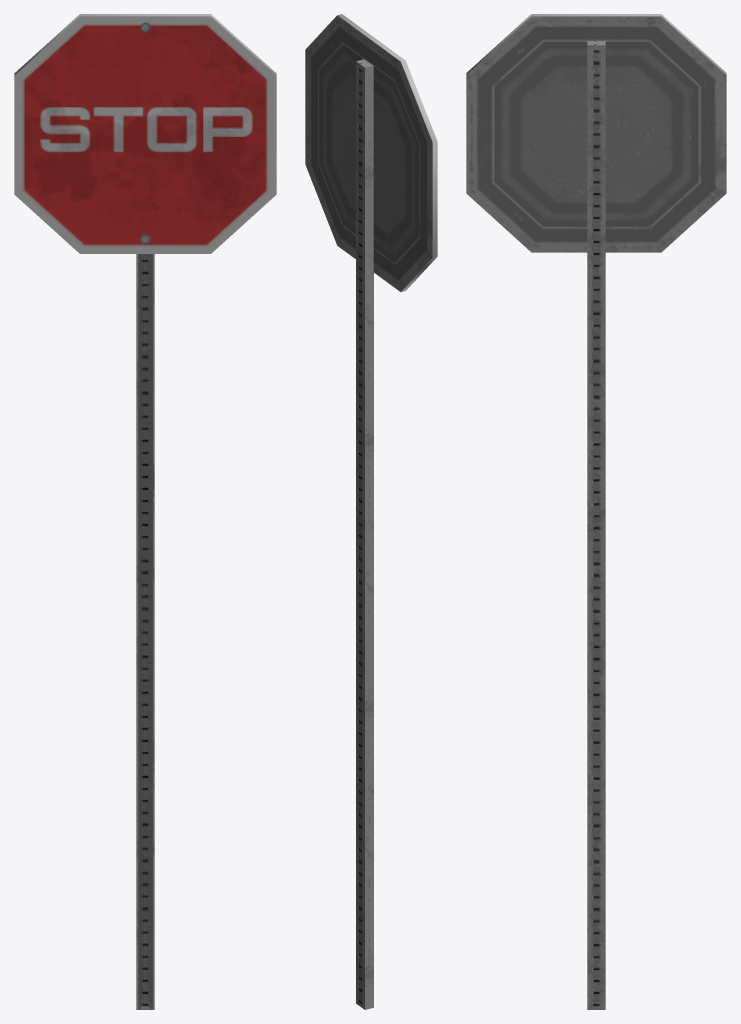
The model's file is MB_Sign_Stop.fbx.
The picture shows the model from 3 angles, left to right: view 1: azimuth 90°, elevation 25°; view 2: azimuth 210°, elevation 25°; view 3: azimuth 270°, elevation 25°; orthographic projection. The views are drawn at different scales.
Visible parts, largest first — view 1: MB_Sign_Stop; view 2: MB_Sign_Stop; view 3: MB_Sign_Stop.
Part boxes in pixels (left/top/right/bottom): MB_Sign_Stop: left=14, top=14, right=276, bottom=1009; MB_Sign_Stop: left=305, top=14, right=437, bottom=1009; MB_Sign_Stop: left=466, top=14, right=726, bottom=1009.
Size of the model in its own units: 3.13 by 214 by 51.14.
